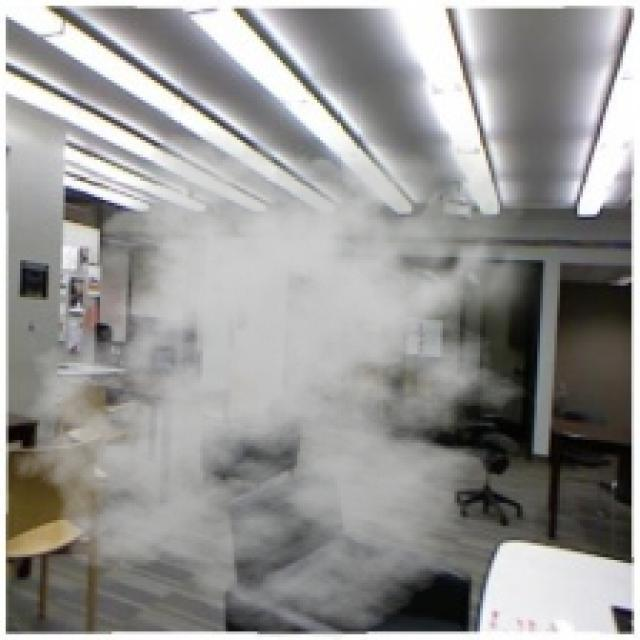Smoke: (11, 114, 566, 637)
